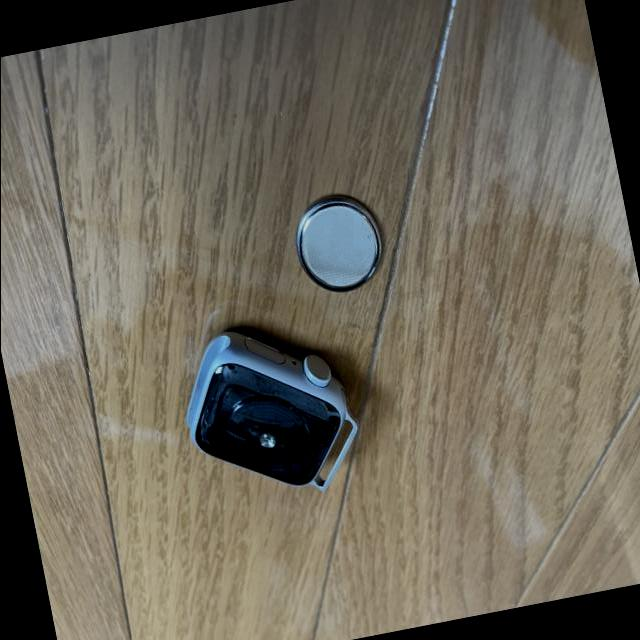COIN: (287, 185, 390, 298)
